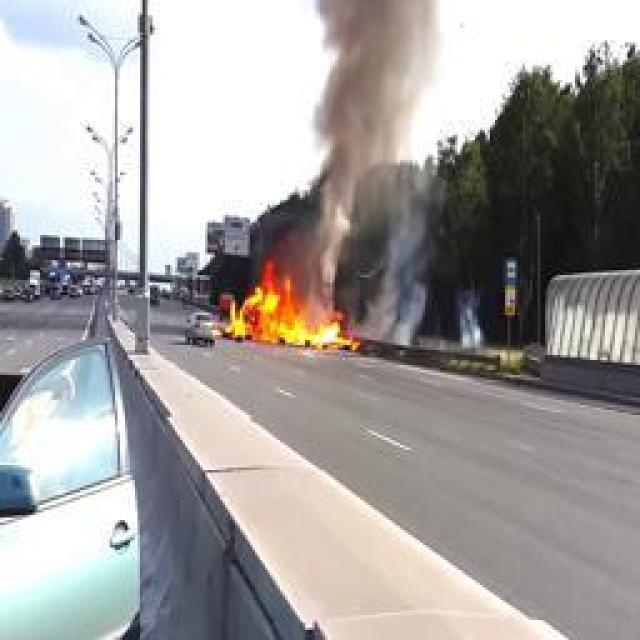Fire: (228, 261, 360, 349)
